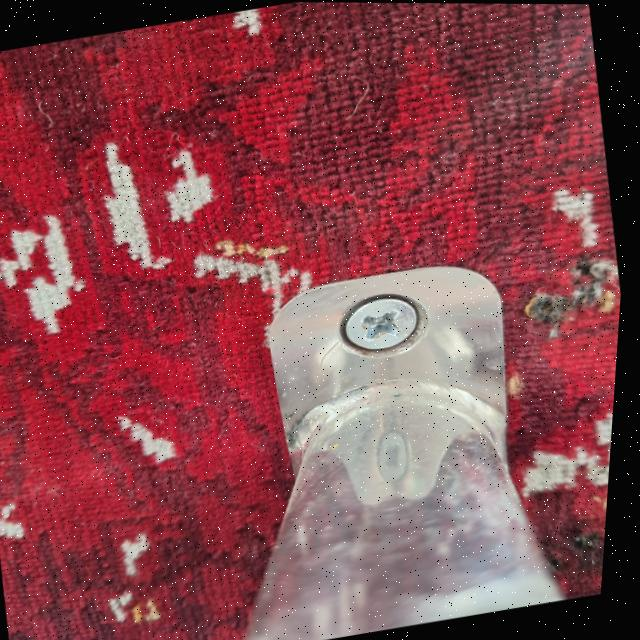Phillips: (334, 290, 431, 362)
